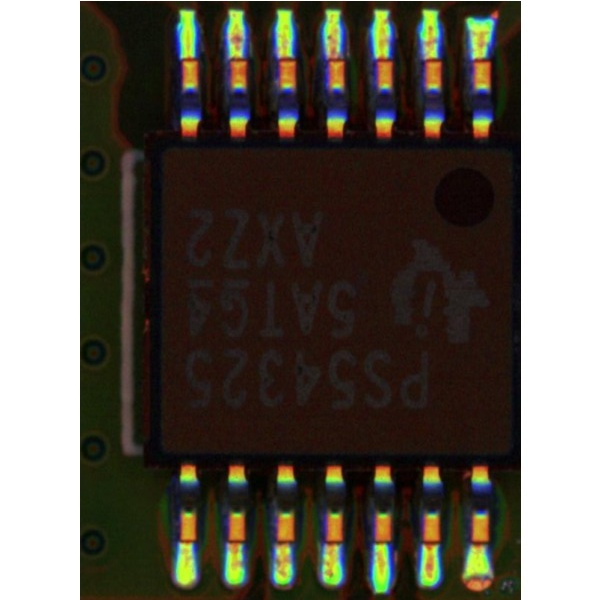Bad_podu: (328, 532, 339, 558), (329, 50, 345, 66), (425, 532, 436, 555), (374, 51, 392, 65), (231, 530, 241, 555)
